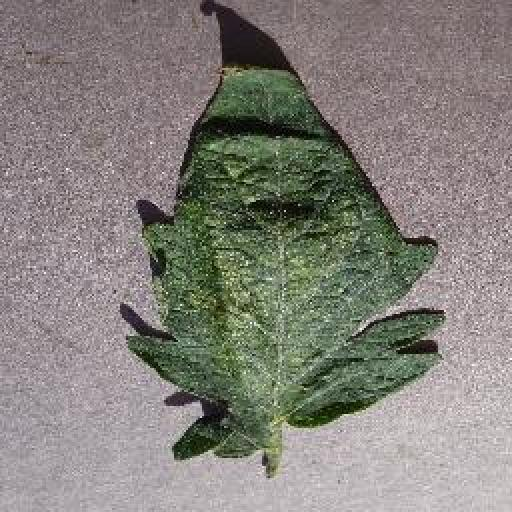disease_tomato: (128, 63, 445, 461)
